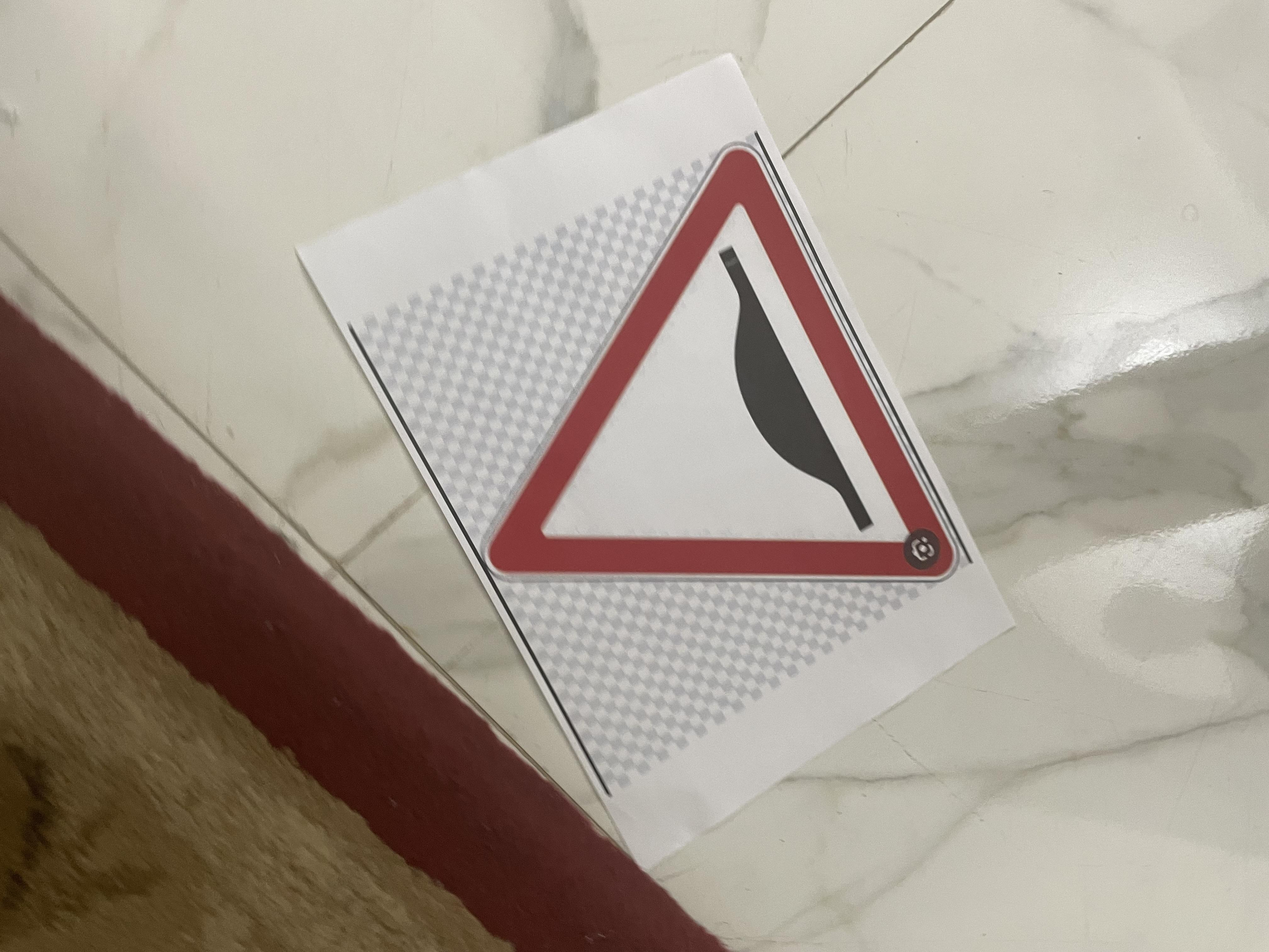Hump: (459, 359, 1096, 728)
